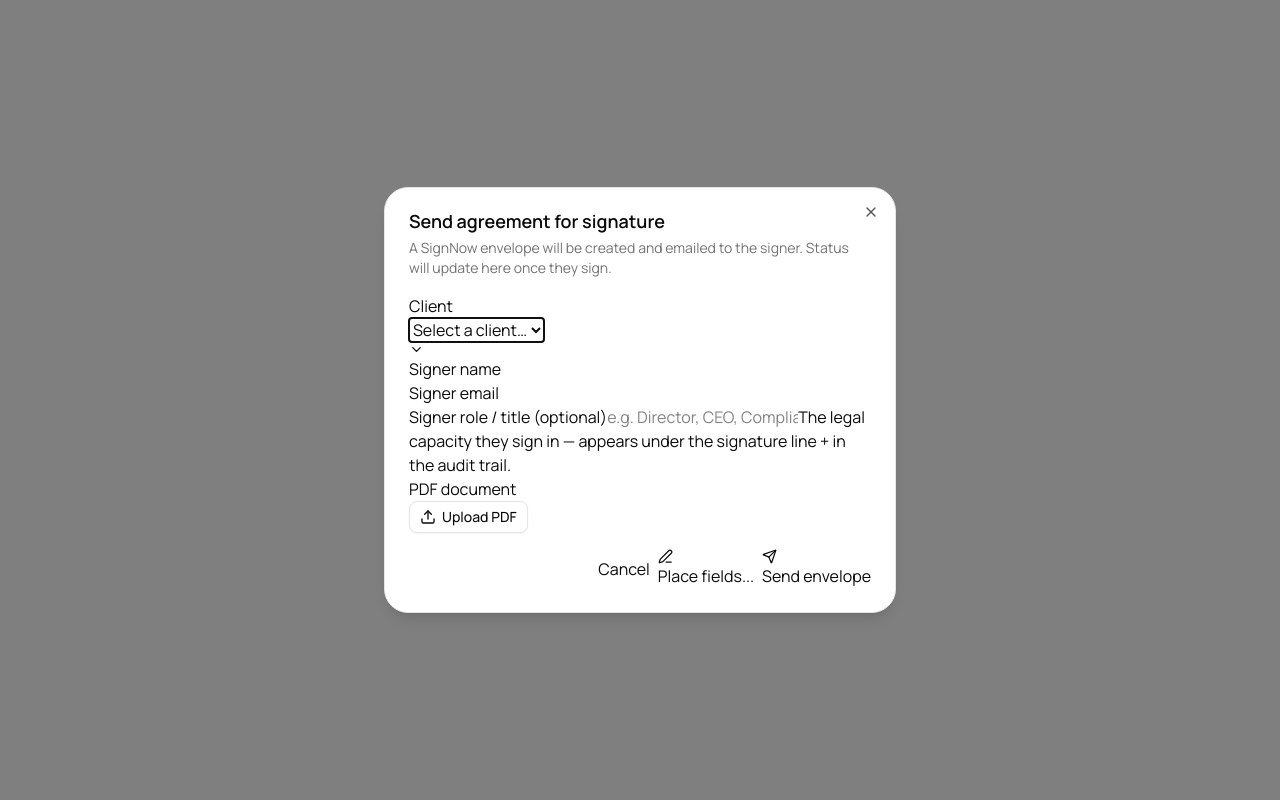
Test: SendAgreementDialog — auto-fill signer from selected client › auto-fills signer name + email with the chosen client's contact details when the dropdown changes
Select "Acme Ltd" in the dropdown labelled "Client": (476, 330) [409,318,544,342]
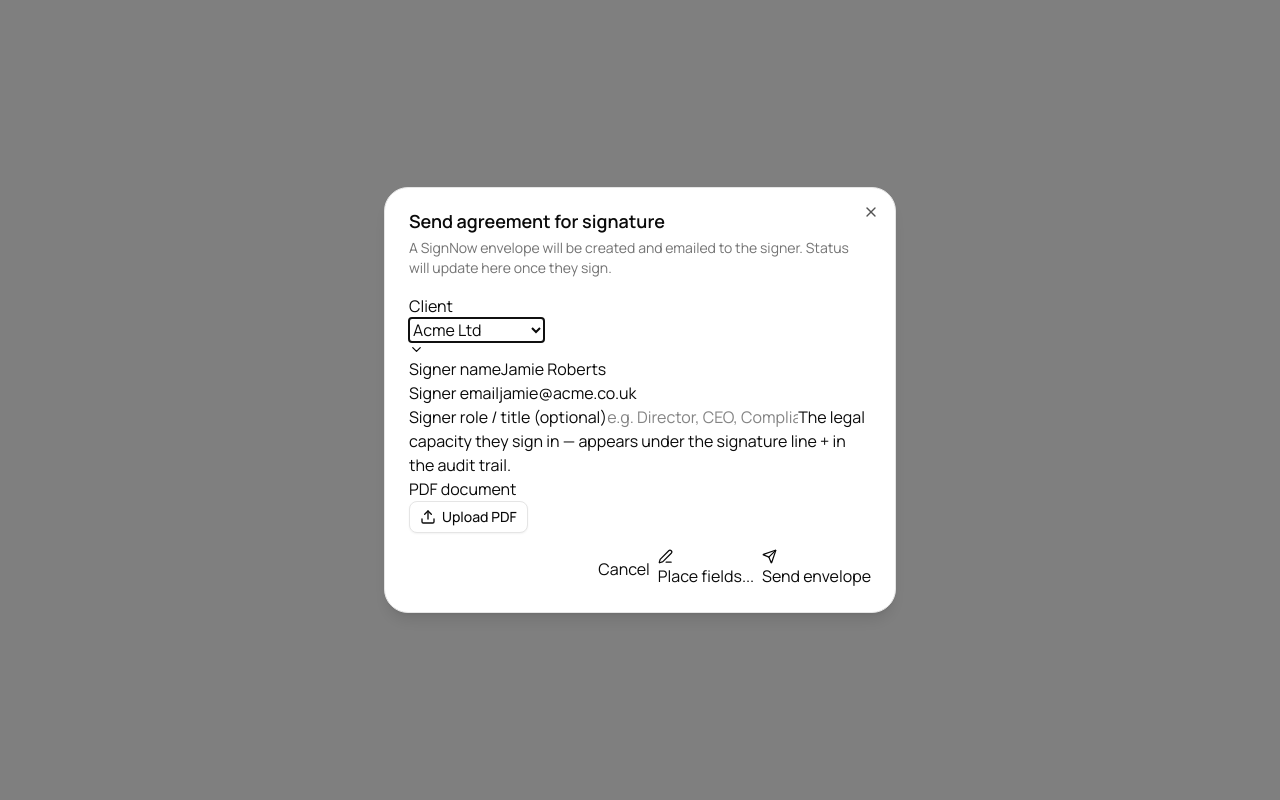
Expected: the field labelled "Signer name" holds "Jamie Roberts", [501,357,692,381]
Expected: the field labelled "Signer email" holds "jamie@acme.co.uk", [499,381,690,405]
